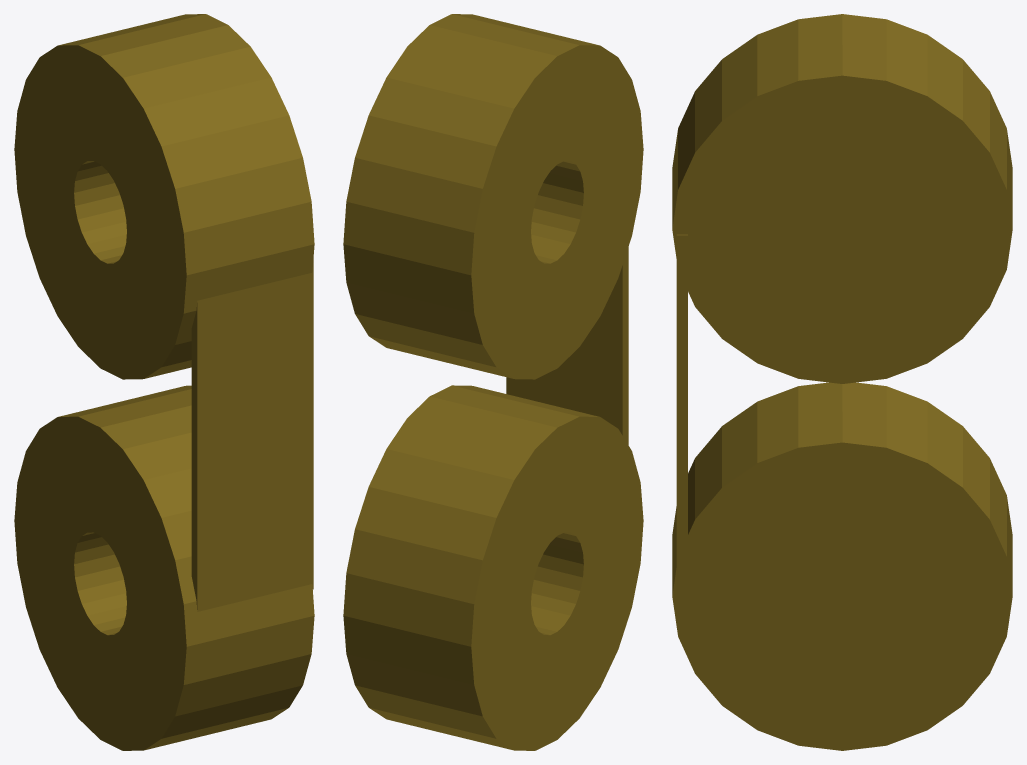
File: computer_tape_drum.glb
The picture shows the model from 3 angles, left to right: view 1: azimuth 30°, elevation 25°; view 2: azimuth 150°, elevation 25°; view 3: azimuth 270°, elevation 25°; orthographic projection.
Parts seen in each view (by area): view 1: film_drum; view 2: film_drum; view 3: film_drum.
Boxes of the visible parts, x1,y1,x2,y2 form: film_drum: [14, 14, 314, 750]; film_drum: [343, 14, 643, 750]; film_drum: [672, 14, 1012, 750].
Bounding box in the file's own units: 0.2424 × 1.23 × 0.56.
